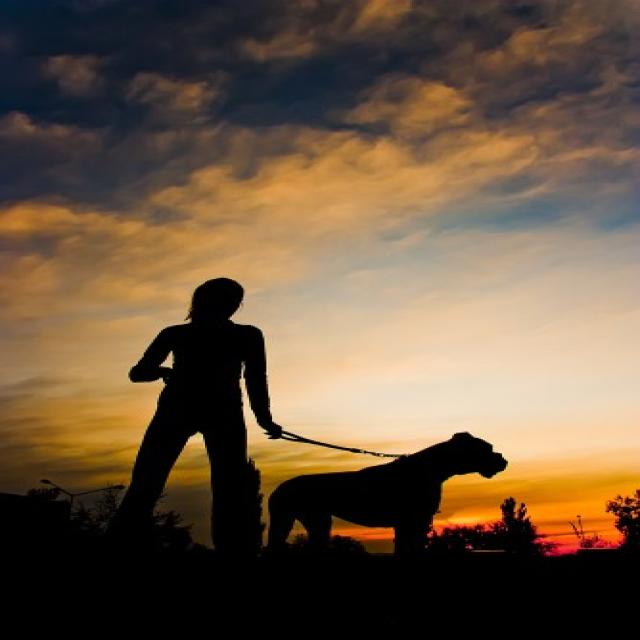People: (148, 264, 253, 537)
dog: (254, 415, 531, 567)
